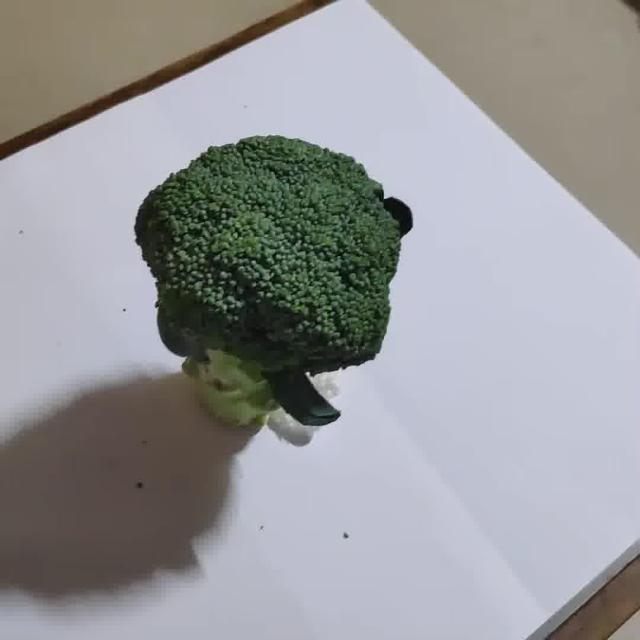Broccoli: (135, 136, 412, 444)
